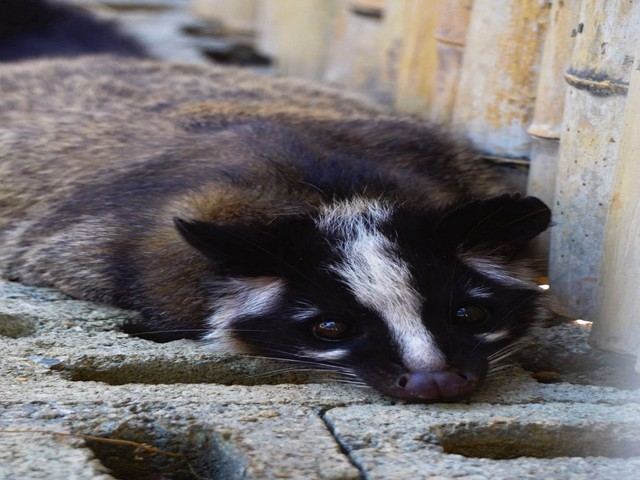civet: (3, 49, 561, 401)
